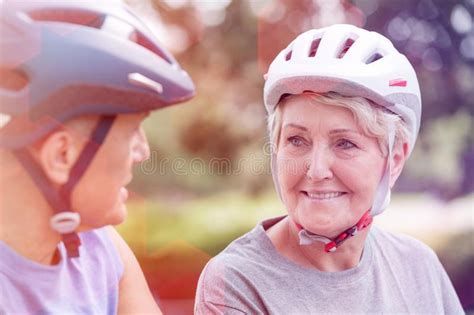com_capacete_bicicleta: (261, 23, 422, 253)
